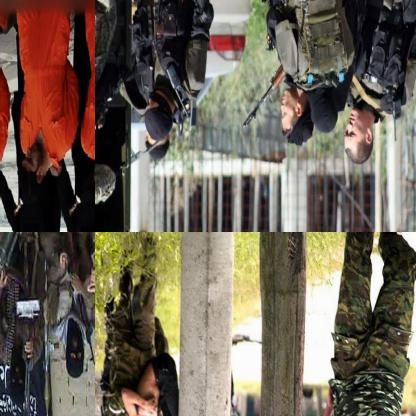rifle: (255, 0, 282, 52)
